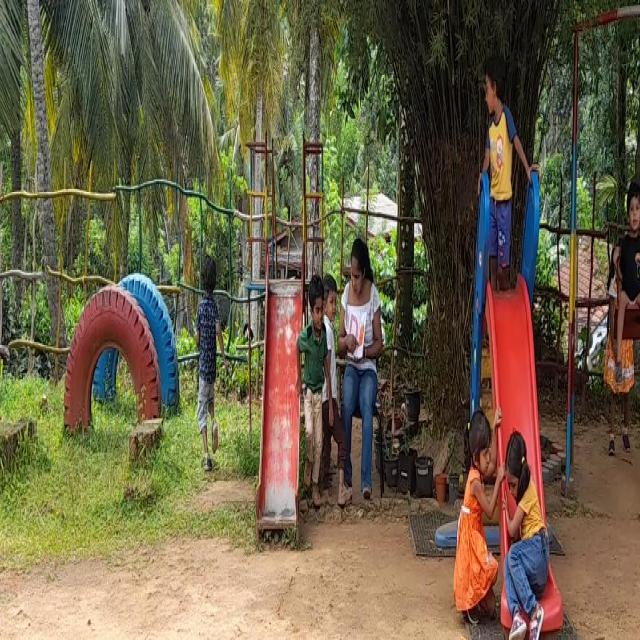adult: (342, 218, 386, 500)
child: (502, 421, 551, 640), (452, 397, 498, 607), (481, 59, 525, 272), (193, 245, 230, 459), (610, 172, 640, 388), (300, 259, 324, 479)
